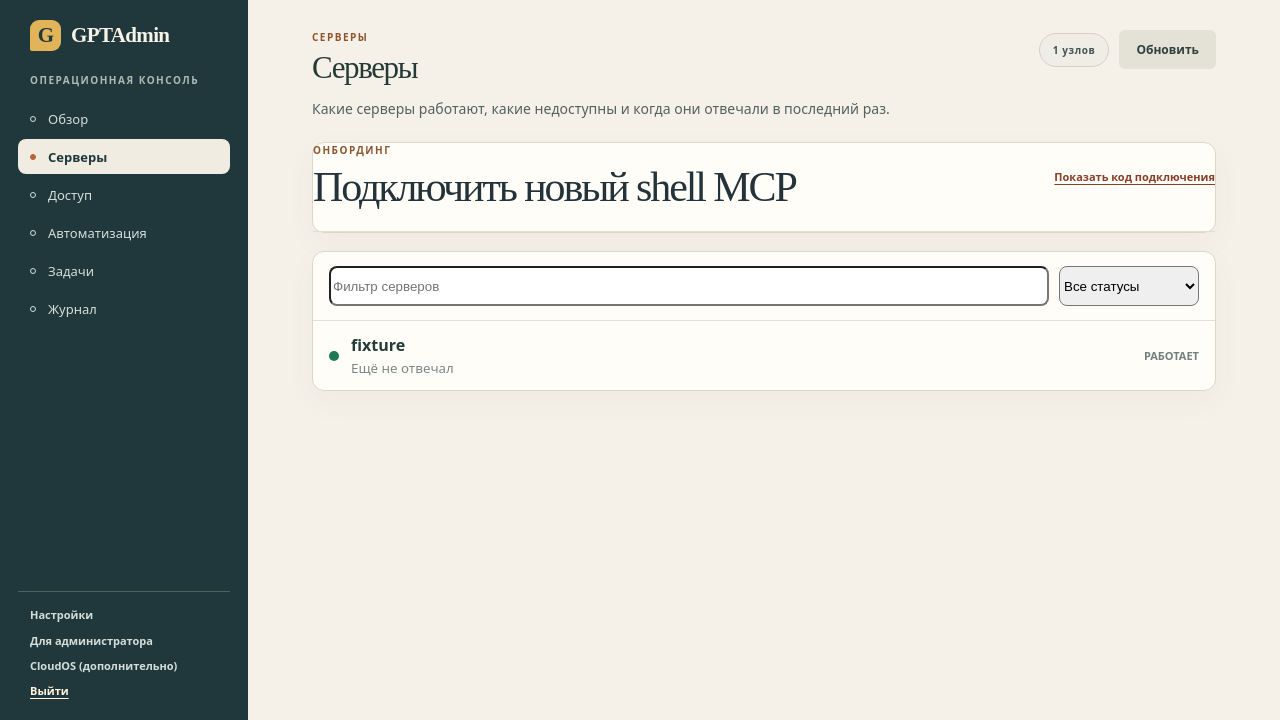
Test: reveals the shell MCP connect code on demand from the agents screen
The width and height of the screenshot is (1280, 720).
Expected: the heading "Подключить новый shell MCP" is shown, x1=313 y1=165 x2=796 y2=209
Expected: the text "SHELL_TOKEN=agent-secret" is not shown
Click the button "Показать код подключения" at (1135, 176), box x1=1054 y1=167 x2=1215 y2=186
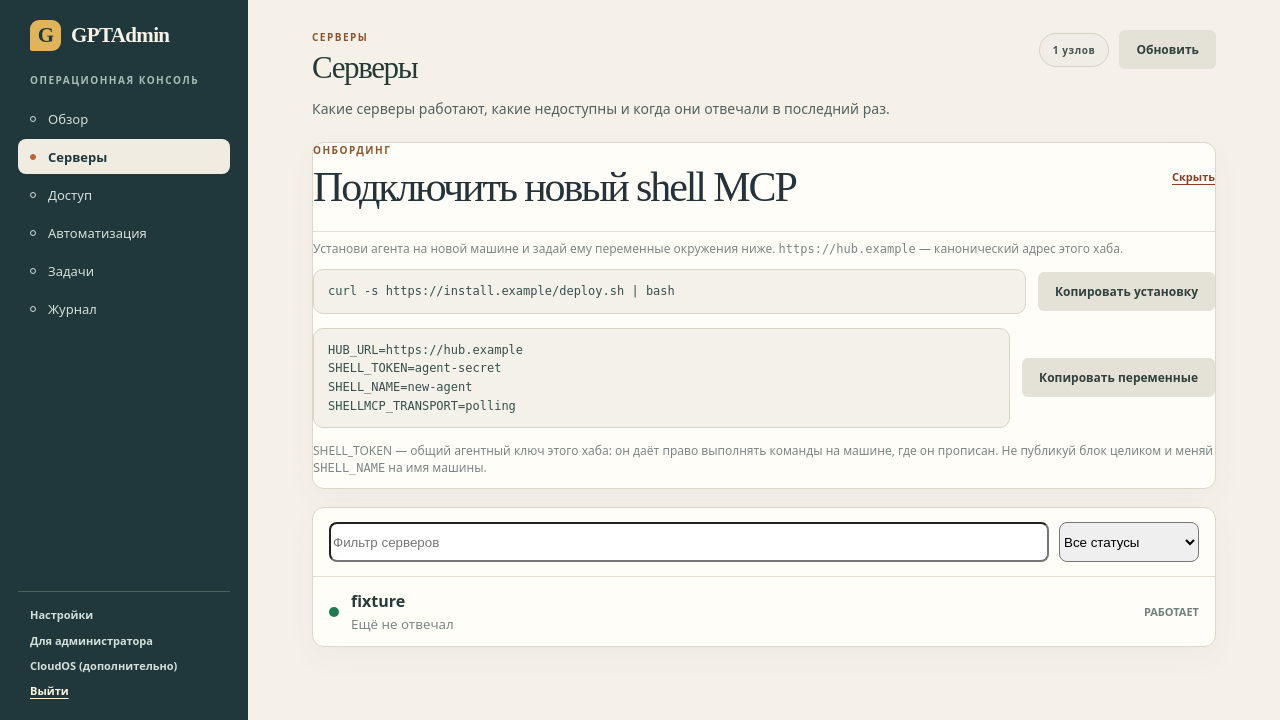
Now the text "SHELL_TOKEN=agent-secret" is shown, box x1=328 y1=343 x2=523 y2=413
Now the text "curl -s https://install.example/deploy.sh | bash" is shown, box x1=313 y1=269 x2=1026 y2=314
Now the button "Копировать переменные" is shown, box x1=1022 y1=358 x2=1215 y2=398
Click the button "Скрыть" at (1194, 176), box x1=1172 y1=167 x2=1215 y2=186
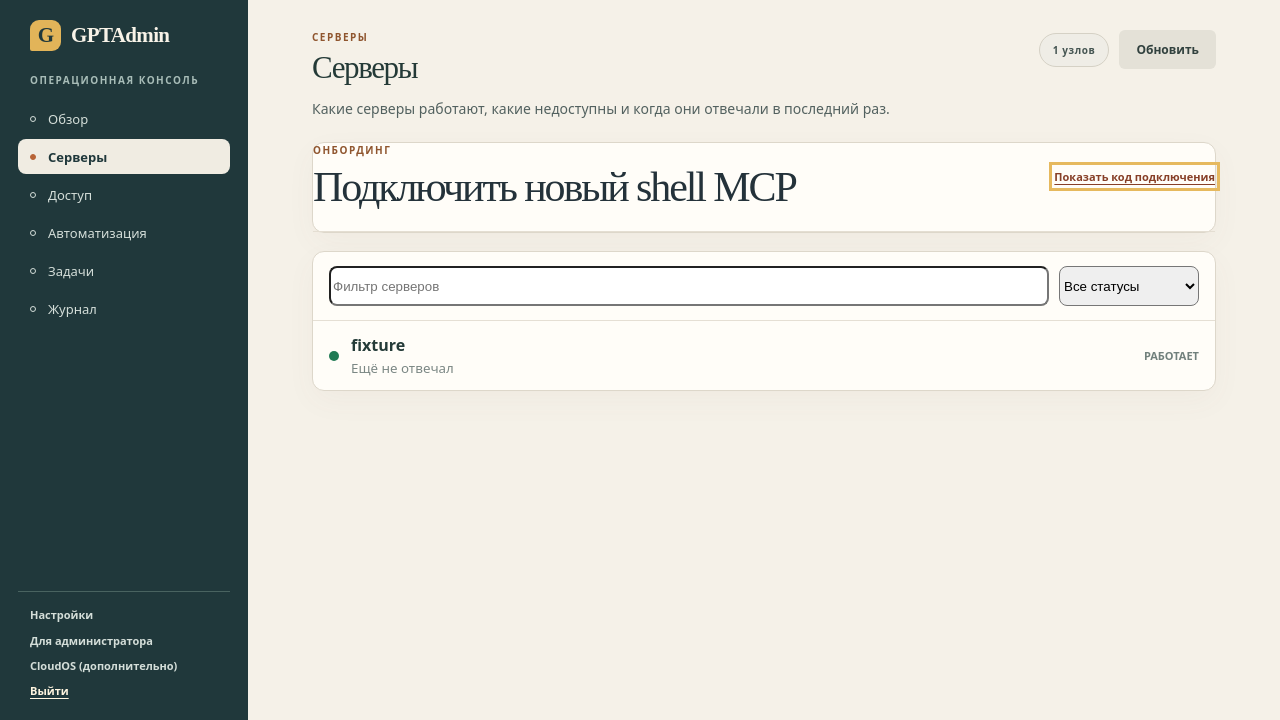
Now the text "SHELL_TOKEN=agent-secret" is gone
